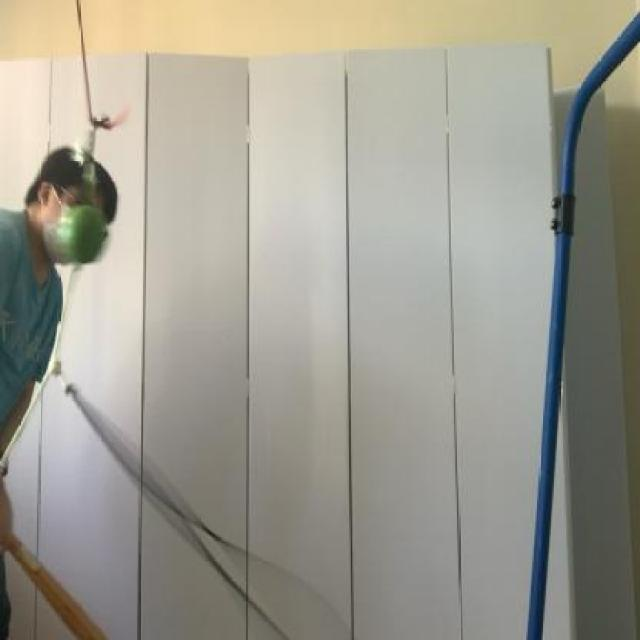baseball: (62, 198, 111, 267)
